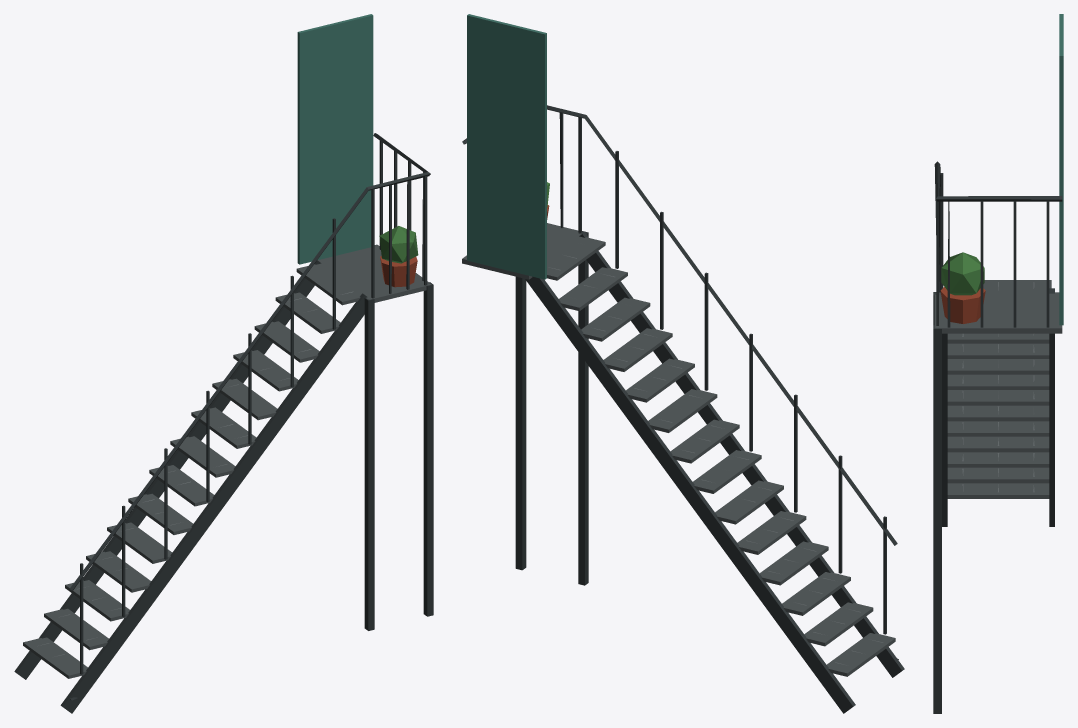
The model's file is cau_thang_sat.glb.
The picture shows the model from 3 angles, left to right: view 1: azimuth 30°, elevation 25°; view 2: azimuth 150°, elevation 25°; view 3: azimuth 270°, elevation 25°; orthographic projection. The views are drawn at different scales.
Parts seen in each view (by area): view 1: cau_thang_sat; view 2: cau_thang_sat; view 3: cau_thang_sat.
Part boxes in pixels (box(x1,y1,x2,y2)): cau_thang_sat: box(14, 14, 433, 713); cau_thang_sat: box(462, 14, 904, 713); cau_thang_sat: box(933, 14, 1063, 713).
Size of the model in its own units: 3.49 by 5.23 by 0.92.
